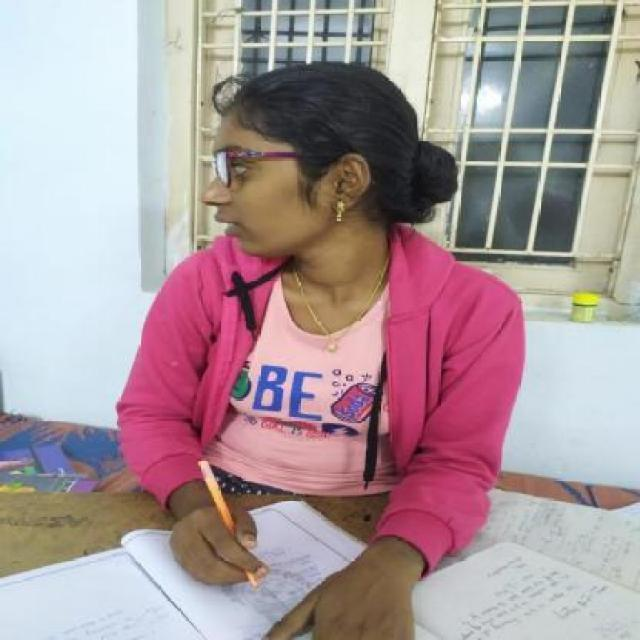cheating: (0, 39, 552, 640)
